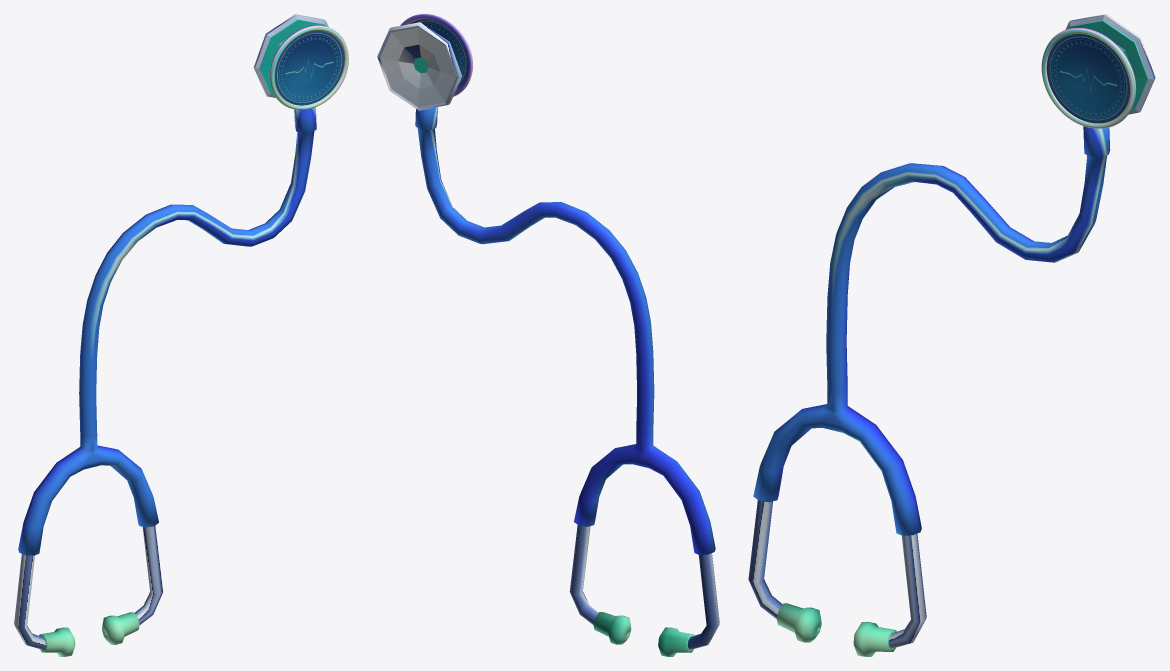
File: stethoscope.obj
The picture shows the model from 3 angles, left to right: view 1: azimuth 30°, elevation 25°; view 2: azimuth 150°, elevation 25°; view 3: azimuth 330°, elevation 25°; orthographic projection. The views are drawn at different scales.
Size of the model in its own units: 120 by 200 by 11.17.
1 material, 1 textured.
